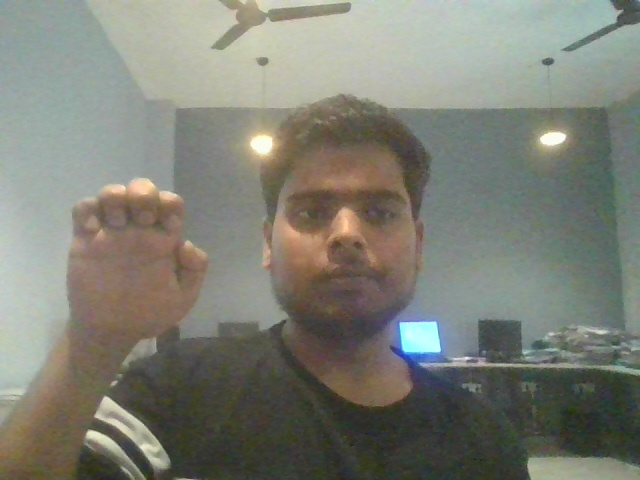C: (37, 164, 221, 366)
